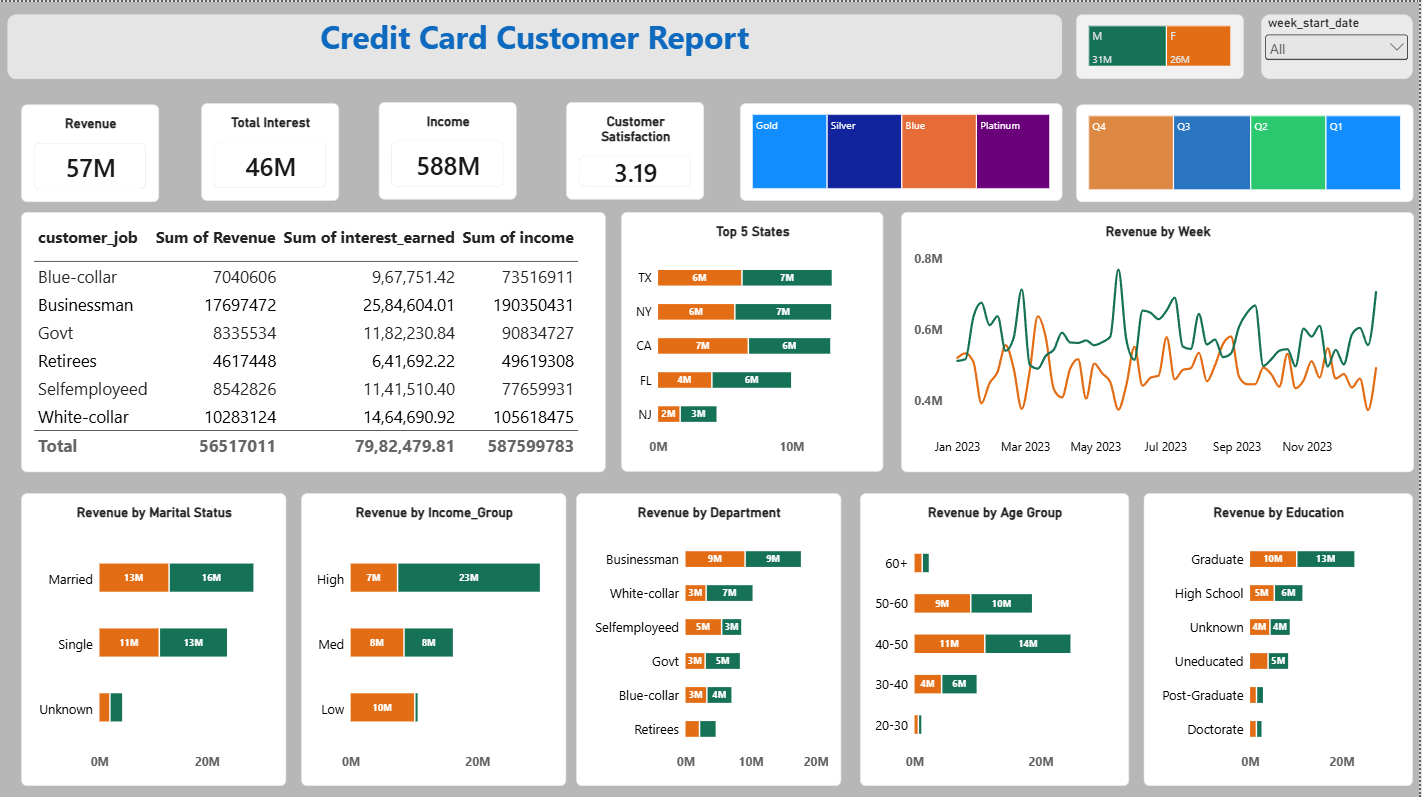

The dashboard page shown, as its layout file describes it:
{"tool":"powerbi","page":{"name":"CC Customer Report","canvas":[1920,1080],"ordinal":2},"visuals":[{"type":"barChart","title":"Revenue by Age Group","fields":{"Category":["public cust_detail.AgeGroup"],"Series":["public cust_detail.gender"],"Y":["Sum(public cc_detail.Revenue)"]},"box":[1163.6,664.1,363.7,396.3],"z":0},{"type":"barChart","title":" Revenue by Income_Group","fields":{"Category":["public cust_detail.IncomeGroup"],"Series":["public cust_detail.gender"],"Y":["Sum(public cc_detail.Revenue)"]},"box":[407.2,664.1,358.3,396.3],"z":1000},{"type":"tableEx","fields":{"Values":["public cust_detail.customer_job","Sum(public cc_detail.Revenue)","Sum(public cc_detail.interest_earned)","Sum(public cust_detail.income)"]},"box":[28.3,283.3,790,351.7],"z":2000},{"type":"cardVisual","title":"Revenue","fields":{"Data":["Sum(public cc_detail.Revenue)"]},"box":[29,139.4,186.4,132.1],"z":3000},{"type":"cardVisual","title":"Total Interest","fields":{"Data":["Sum(public cc_detail.total_trans_amt)"]},"box":[271.5,137.6,186.4,132.1],"z":4000},{"type":"cardVisual","title":"Income","fields":{"Data":["Sum(public cust_detail.income)"]},"box":[512.2,135.7,186.4,132.1],"z":5000},{"type":"cardVisual","title":"Customer Satisfaction","fields":{"Data":["Avg(public cust_detail.cust_satifaction_score)"]},"box":[765.6,135.7,186.4,132.1],"z":6000},{"type":"textbox","box":[10.9,16.3,1426.2,86.9],"z":7000},{"type":"slicer","fields":{"Values":["public cc_detail.week_start_date"]},"box":[1706.5,16.3,204.5,86.9],"z":8000},{"type":"treemap","fields":{"Group":["public cc_detail.qtr"],"Values":["Avg(public cust_detail.client_num)"]},"box":[1455,139.3,456,132.1],"z":9000},{"type":"treemap","fields":{"Group":["public cc_detail.card_category"],"Values":["Avg(public cust_detail.client_num)"]},"box":[1000.9,137.6,436.2,132.1],"z":10000},{"type":"lineChart","title":" Revenue by Week","fields":{"Category":["public cc_detail.week_start_date.Variation.Date Hierarchy.Year","public cc_detail.week_start_date.Variation.Date Hierarchy.Month","public cc_detail.week_start_date.Variation.Date Hierarchy.Day"],"Series":["public cust_detail.gender"],"Y":["Sum(public cc_detail.Revenue)"]},"box":[1218.3,283.3,693.3,351.7],"z":11000},{"type":"treemap","fields":{"Group":["public cust_detail.gender"],"Values":["Sum(public cc_detail.Revenue)"]},"box":[1455,16.3,226.2,86.9],"z":12000},{"type":"barChart","title":"Revenue by Department","fields":{"Category":["public cust_detail.customer_job"],"Series":["public cust_detail.gender"],"Y":["Sum(public cc_detail.Revenue)"]},"box":[780,664.1,358.3,396.3],"z":13000},{"type":"barChart","title":"Revenue by Education","fields":{"Category":["public cust_detail.education_level"],"Series":["public cust_detail.gender"],"Y":["Sum(public cc_detail.Revenue)"]},"box":[1547.3,664.1,363.7,396.3],"z":14000},{"type":"barChart","title":"Top 5 States","fields":{"Category":["public cust_detail.state_cd"],"Series":["public cust_detail.gender"],"Y":["Sum(public cc_detail.Revenue)"]},"box":[840,283.3,354.7,351.1],"z":15000},{"type":"barChart","title":"Revenue by Marital Status","fields":{"Category":["public cust_detail.marital_status"],"Series":["public cust_detail.gender"],"Y":["Sum(public cc_detail.Revenue)"]},"box":[29,664.1,358.3,396.3],"z":16000}]}

Visuals, with their boxes in screenshot pixels (x1, y1, x2, y2), scaled from the page's 1920x1080 canvas onto the 1422x797 screenshot:
"Revenue by Age Group" barChart: (left=862, top=490, right=1131, bottom=783)
" Revenue by Income_Group" barChart: (left=302, top=490, right=567, bottom=783)
tableEx - public cust_detail.customer_job x Sum(public cc_detail.Revenue): (left=21, top=209, right=606, bottom=469)
"Revenue" cardVisual: (left=21, top=103, right=160, bottom=200)
"Total Interest" cardVisual: (left=201, top=102, right=339, bottom=199)
"Income" cardVisual: (left=379, top=100, right=517, bottom=198)
"Customer Satisfaction" cardVisual: (left=567, top=100, right=705, bottom=198)
textbox: (left=8, top=12, right=1064, bottom=76)
slicer - public cc_detail.week_start_date: (left=1264, top=12, right=1415, bottom=76)
treemap - public cc_detail.qtr x Avg(public cust_detail.client_num): (left=1078, top=103, right=1415, bottom=200)
treemap - public cc_detail.card_category x Avg(public cust_detail.client_num): (left=741, top=102, right=1064, bottom=199)
" Revenue by Week" lineChart: (left=902, top=209, right=1416, bottom=469)
treemap - public cust_detail.gender x Sum(public cc_detail.Revenue): (left=1078, top=12, right=1245, bottom=76)
"Revenue by Department" barChart: (left=578, top=490, right=843, bottom=783)
"Revenue by Education" barChart: (left=1146, top=490, right=1415, bottom=783)
"Top 5 States" barChart: (left=622, top=209, right=885, bottom=468)
"Revenue by Marital Status" barChart: (left=21, top=490, right=287, bottom=783)
